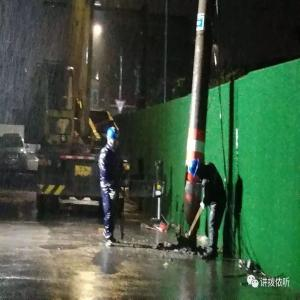blue: (106, 128, 120, 148), (190, 157, 203, 177)
